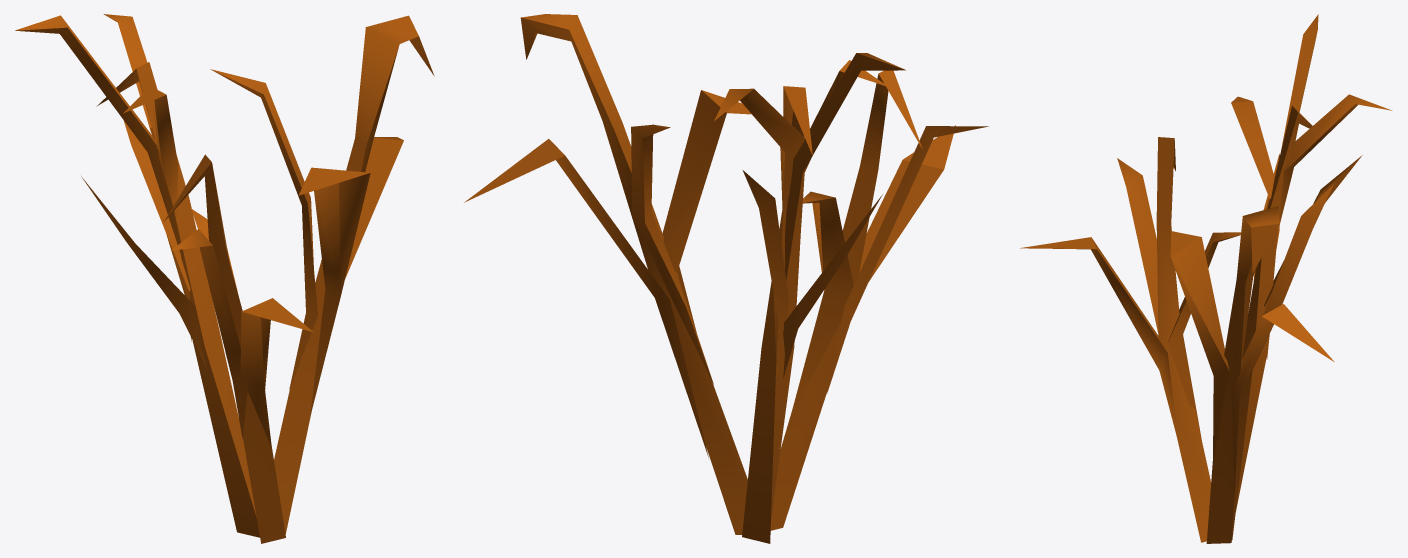
File: Grass_4_1.fbx
3 renders of one model, left to right at view 1: azimuth 30°, elevation 25°; view 2: azimuth 150°, elevation 25°; view 3: azimuth 270°, elevation 25°, orthographic. The views are drawn at different scales.
Parts seen in each view (by area): view 1: Grass_4_1; view 2: Grass_4_1; view 3: Grass_4_1.
Part boxes in pixels (x1,y1,x2,y2): Grass_4_1: (15, 14, 434, 543); Grass_4_1: (464, 14, 988, 543); Grass_4_1: (1020, 14, 1392, 543).
Size of the model in its own units: 27.61 by 34.42 by 26.25.
